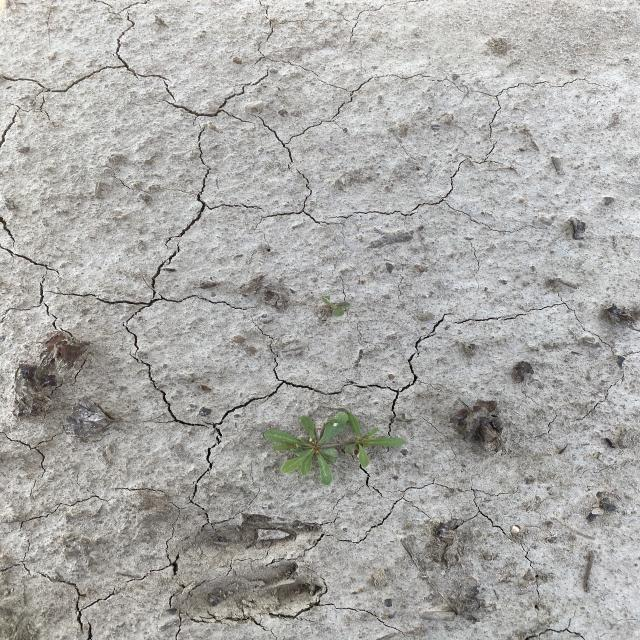Carpetweed: (260, 407, 410, 486)
